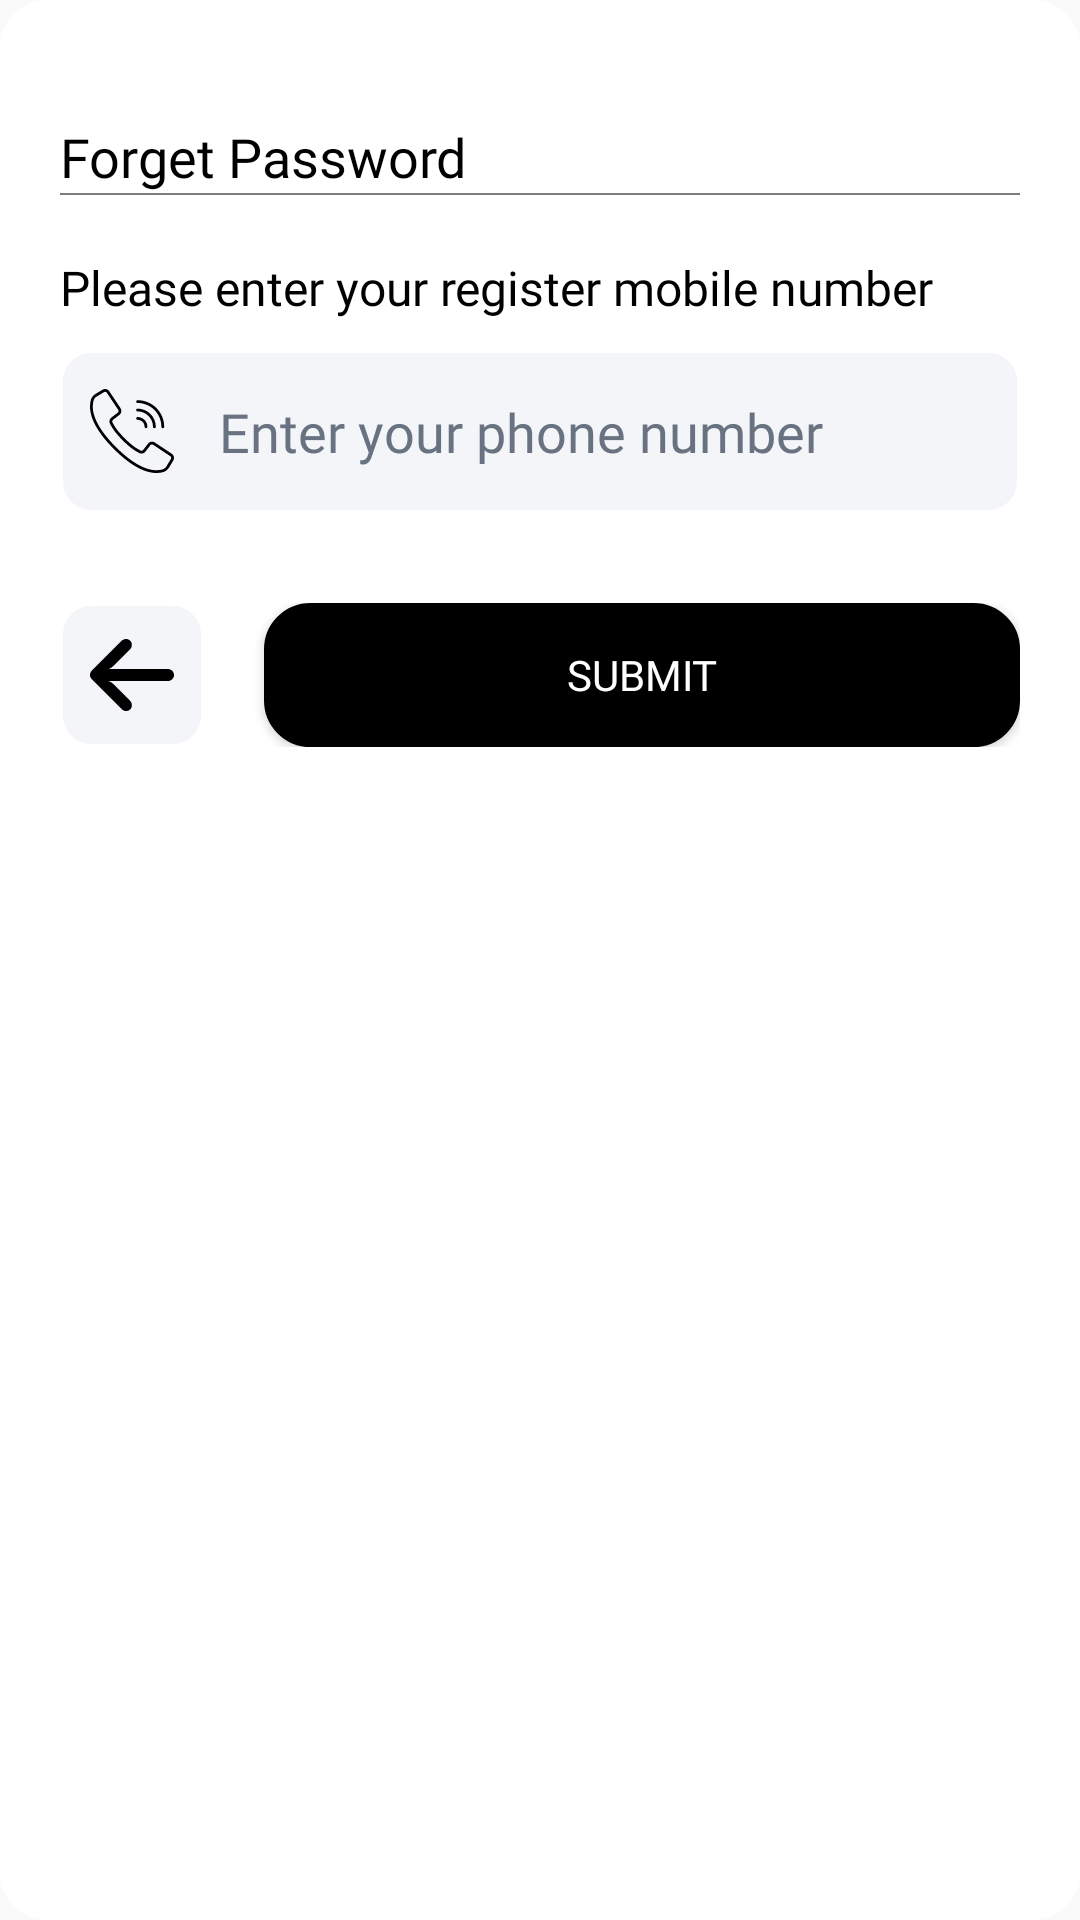

Where to tap for icons on this 1080 x 1920 app screen, as [x,y]:
arrow: [132,675]
